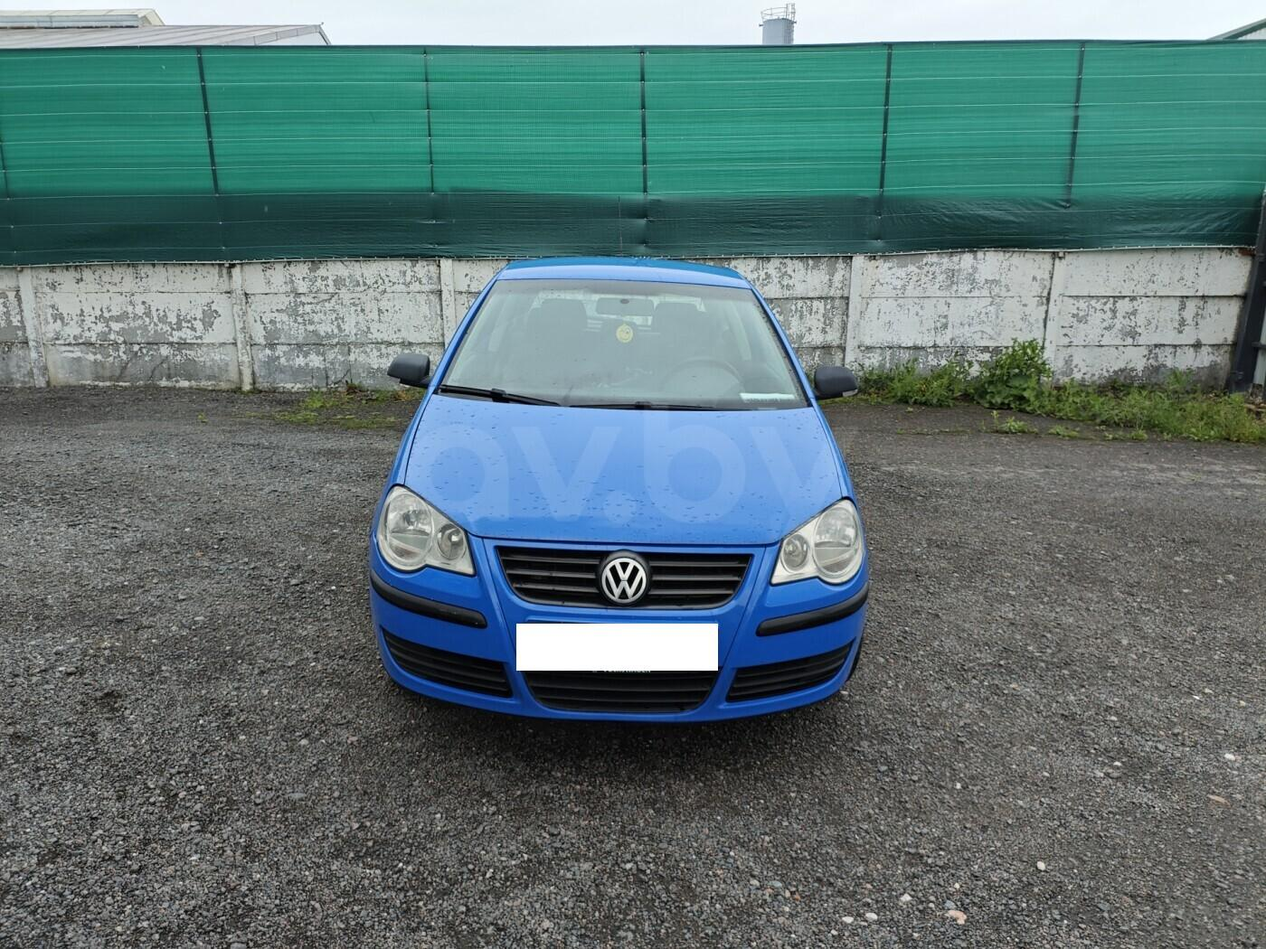Polo_2005-2009: (351, 250, 885, 747)
